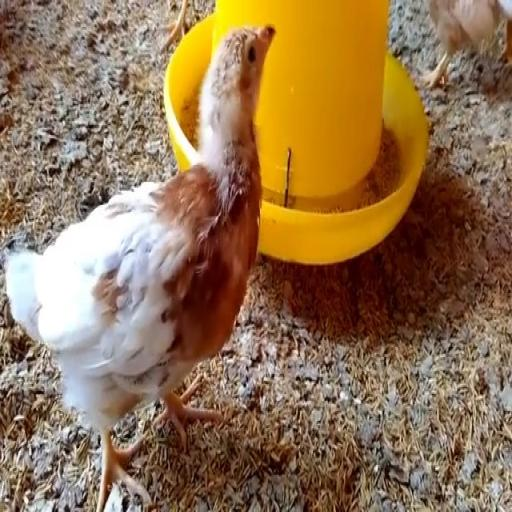healthy: (232, 20, 272, 96)
